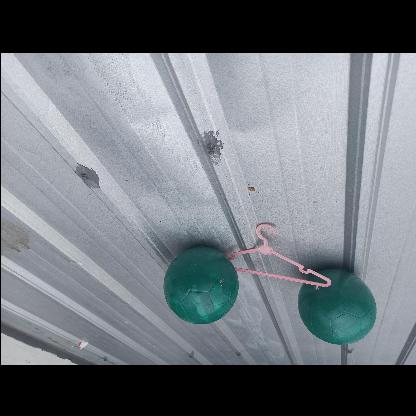green_ball: (160, 246, 240, 326), (297, 267, 377, 347)
